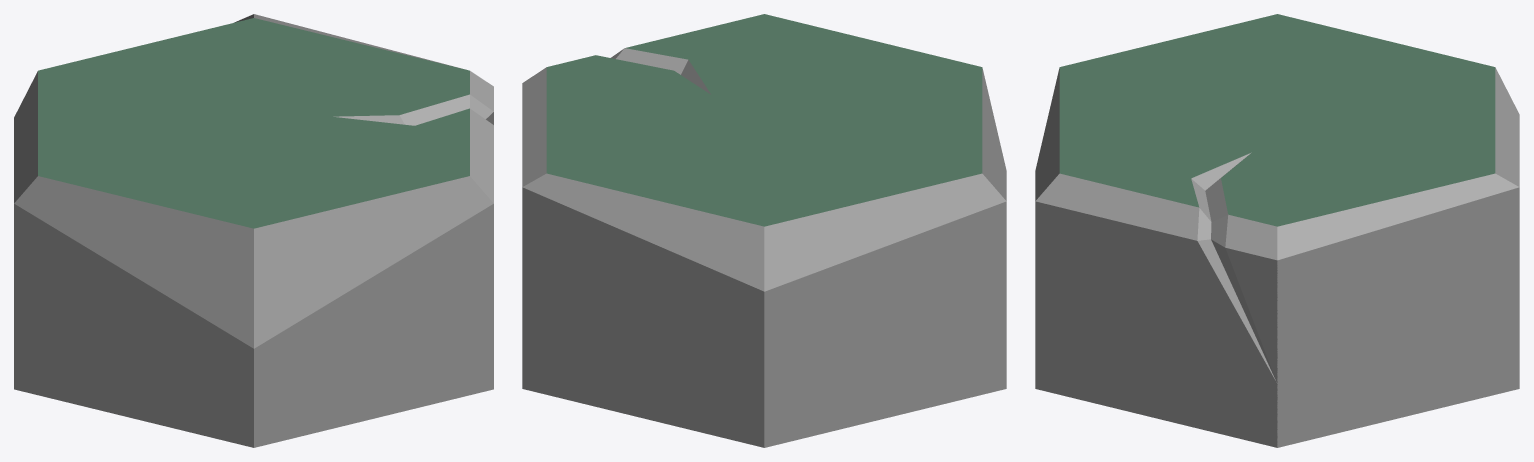
File: HexBase4.fbx
3 renders of one model, left to right at view 1: azimuth 30°, elevation 25°; view 2: azimuth 150°, elevation 25°; view 3: azimuth 270°, elevation 25°, orthographic.
Visible parts, largest first — view 1: HexBase4; view 2: HexBase4; view 3: HexBase4.
Part boxes in pixels (x1,y1,x2,y2): HexBase4: (14,14,493,447); HexBase4: (522,14,1006,447); HexBase4: (1035,14,1519,447).
Size of the model in its own units: 2 by 0.8268 by 1.73.
